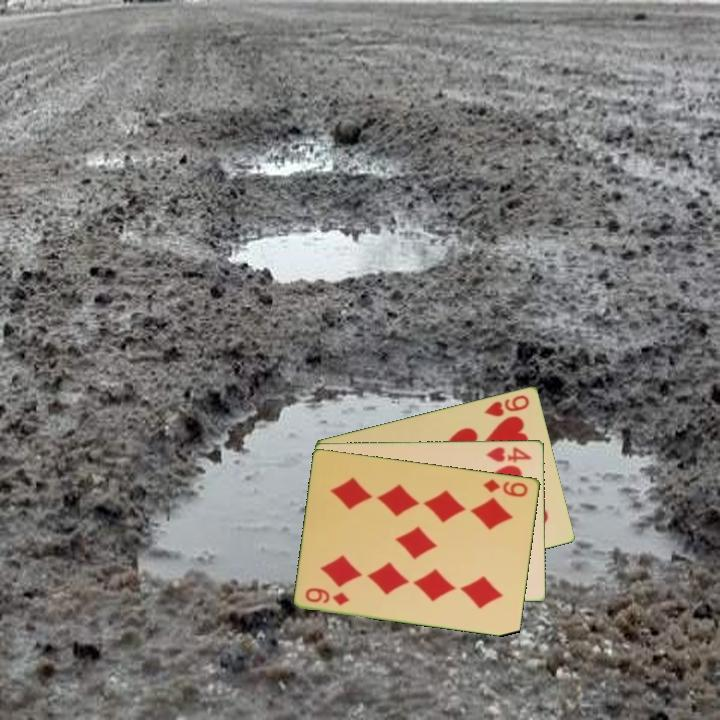4h: (482, 443, 535, 465)
9d: (480, 475, 531, 500), (302, 584, 352, 608)
9h: (481, 391, 532, 419)
